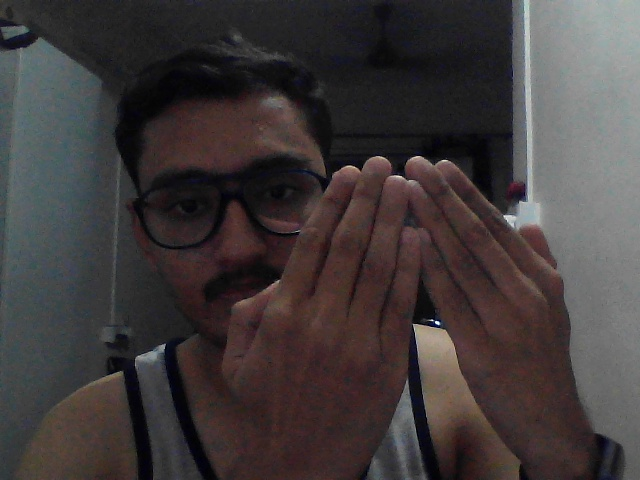Thank You: (208, 130, 620, 476)
